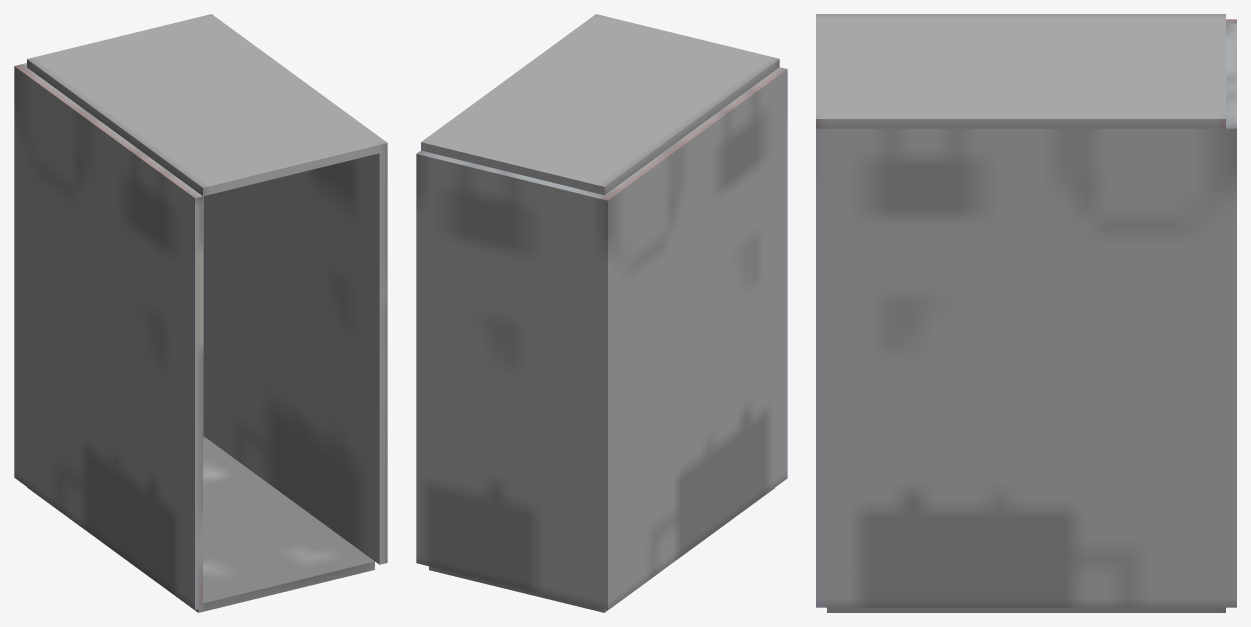
The model's file is BuildingModule_Interior_J_00.fbx.
3 views of the same model, side by side, from view 1: azimuth 30°, elevation 25°; view 2: azimuth 150°, elevation 25°; view 3: azimuth 270°, elevation 25° (orthographic). The views are drawn at different scales.
Parts seen in each view (by area): view 1: BuildingModule_Interior_J_00; view 2: BuildingModule_Interior_J_00; view 3: BuildingModule_Interior_J_00.
Boxes of the visible parts, x1=… form: BuildingModule_Interior_J_00: x1=14, y1=14, x2=387, y2=612; BuildingModule_Interior_J_00: x1=416, y1=14, x2=787, y2=612; BuildingModule_Interior_J_00: x1=816, y1=14, x2=1236, y2=612.
Bounding box in the file's own units: 120 × 255 × 195.
